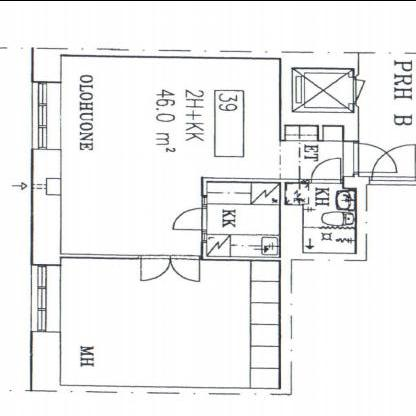door: (134, 251, 208, 285), (370, 138, 416, 182), (350, 140, 398, 174), (165, 253, 203, 285), (170, 205, 210, 235), (135, 252, 171, 283), (308, 154, 344, 182)
window: (25, 260, 67, 334), (27, 76, 67, 152)
